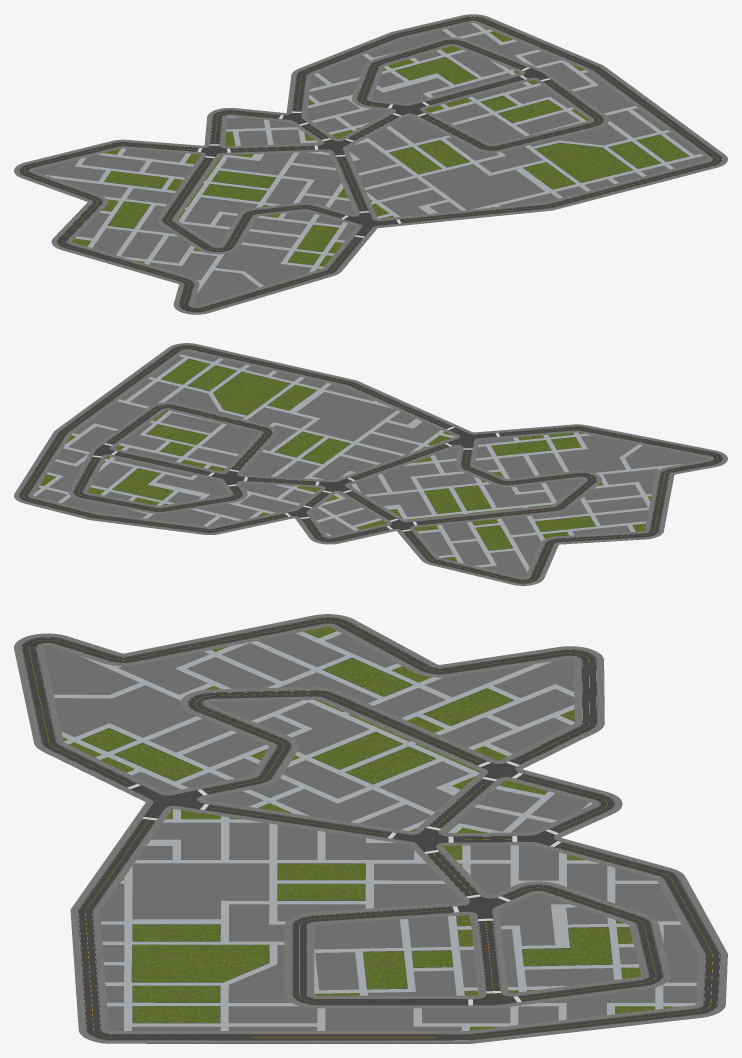
File: road.glb
3 renders of one model, top to bottom at view 1: azimuth 30°, elevation 25°; view 2: azimuth 150°, elevation 25°; view 3: azimuth 270°, elevation 25°, orthographic. The views are drawn at different scales.
Parts seen in each view (by area): view 1: PS; view 2: PS; view 3: PS.
Part boxes in pixels (box(x1,y1,x2,y2)): PS: box(14, 14, 727, 314); PS: box(14, 343, 727, 585); PS: box(14, 614, 727, 1043).
Bounding box in the file's own units: 625 × 0.3733 × 439.
Materials: 11 (7 with a texture image).
